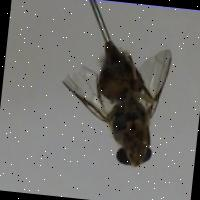Oriental-fruit-fly: (56, 31, 178, 172)
